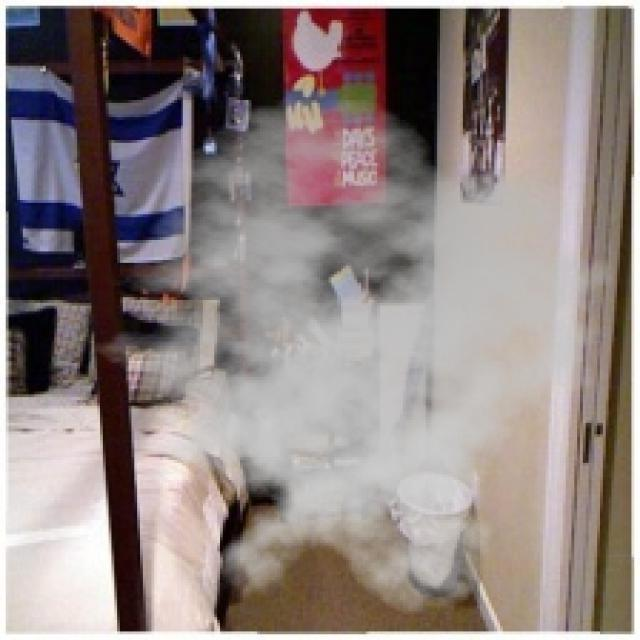Smoke: (69, 97, 628, 617)
